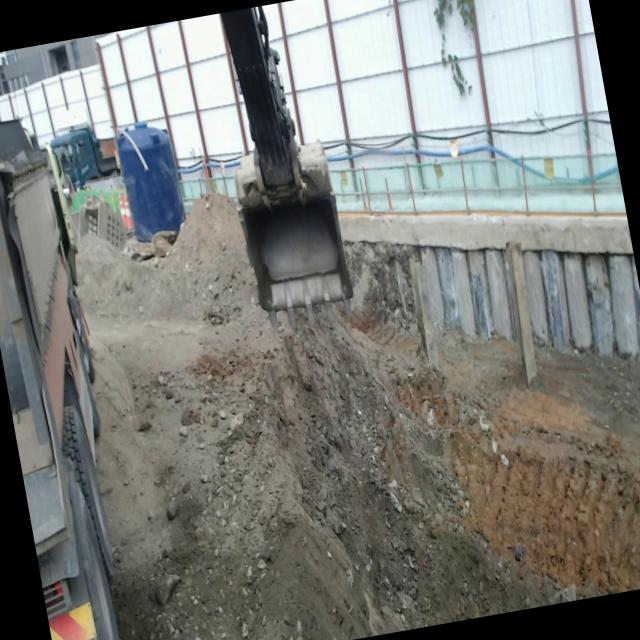white-sand: (77, 197, 640, 640)
